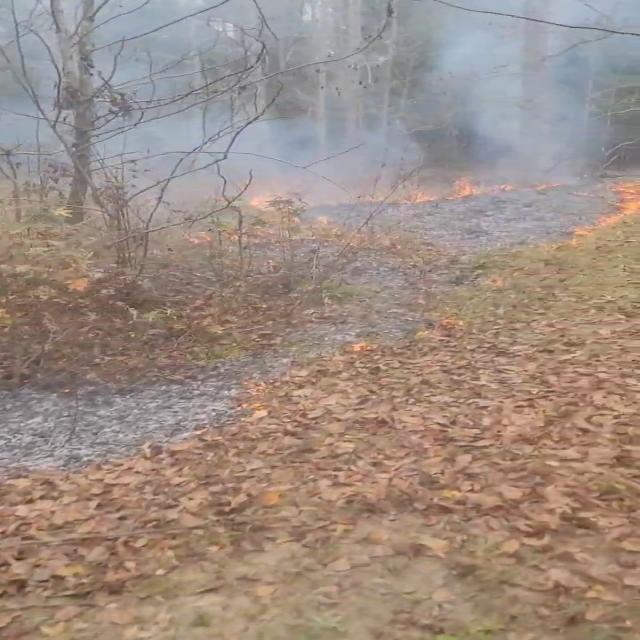Fire: (570, 170, 640, 238)
Smoke: (24, 0, 639, 234)
